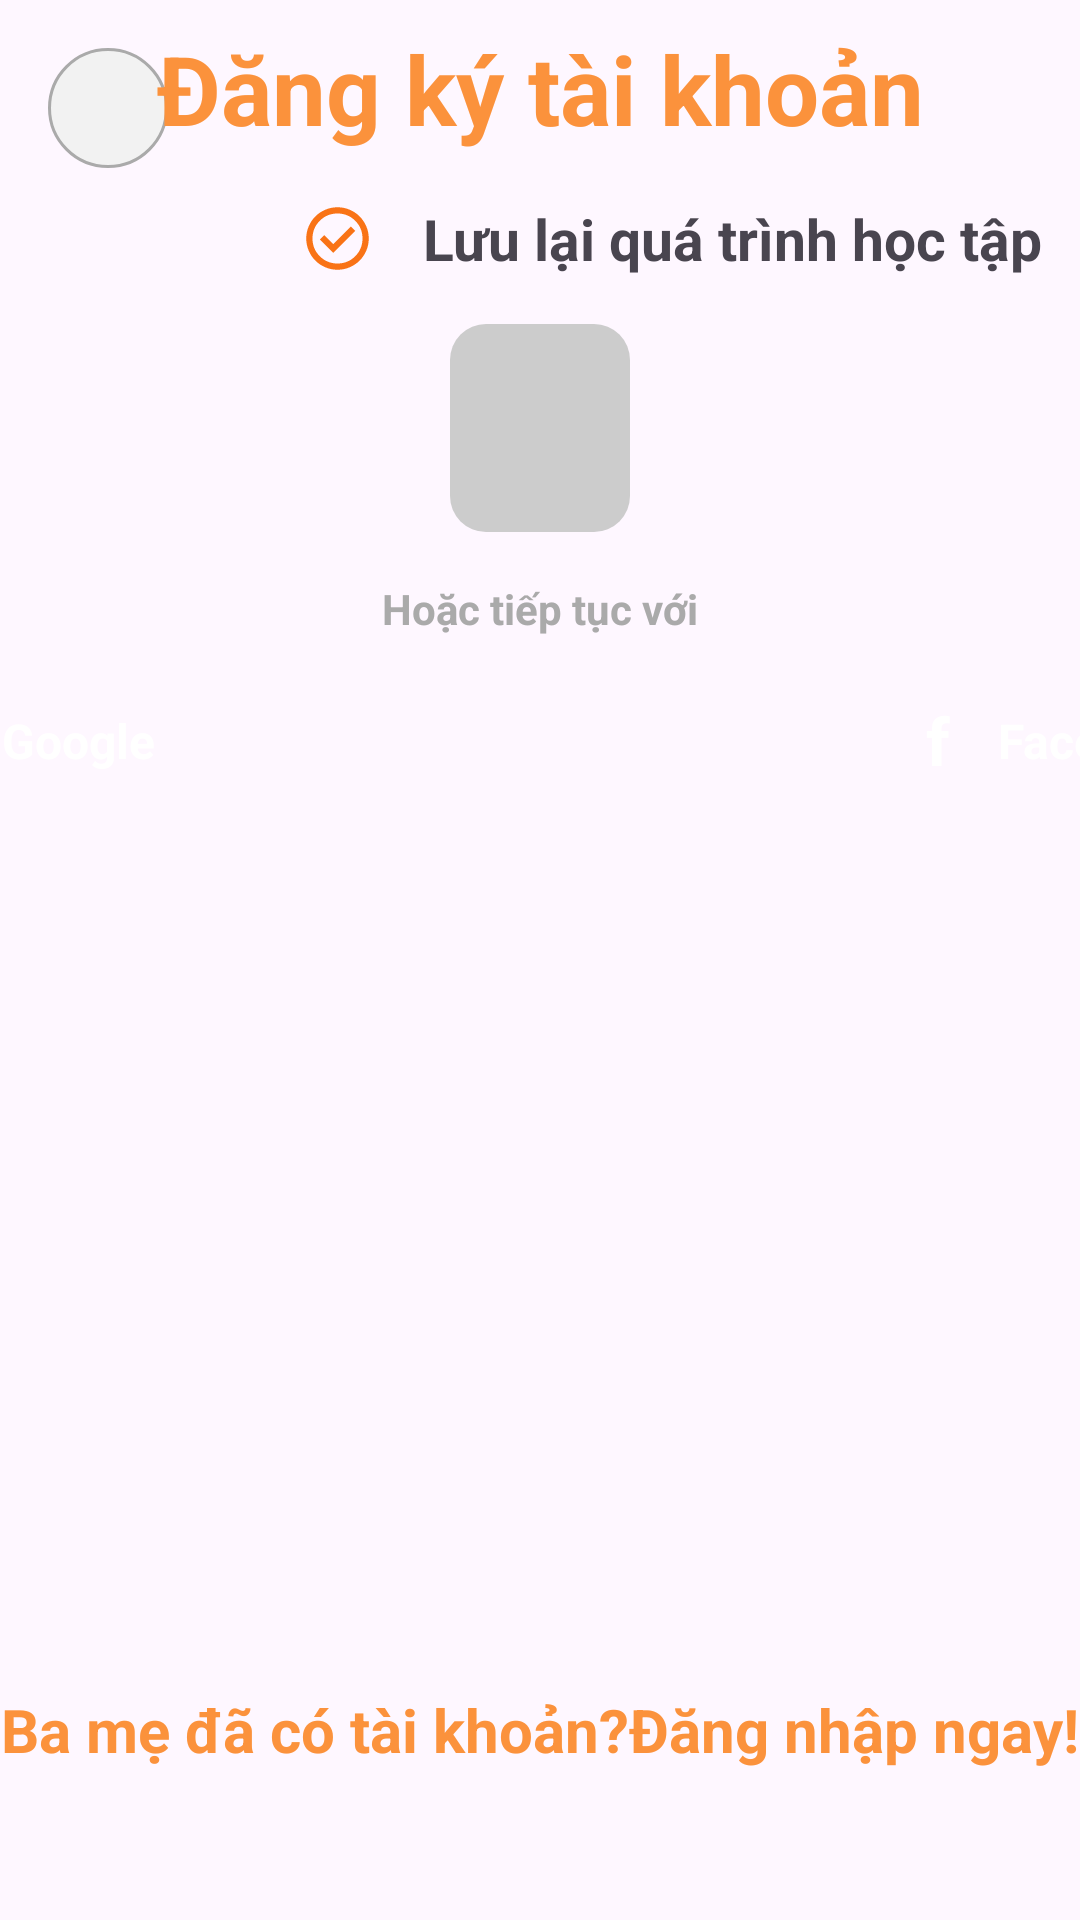

Point at icon controls on the screen. Image size 1080 × 1920, points as (x=x, y=y).
check circle: (x=337, y=238)
